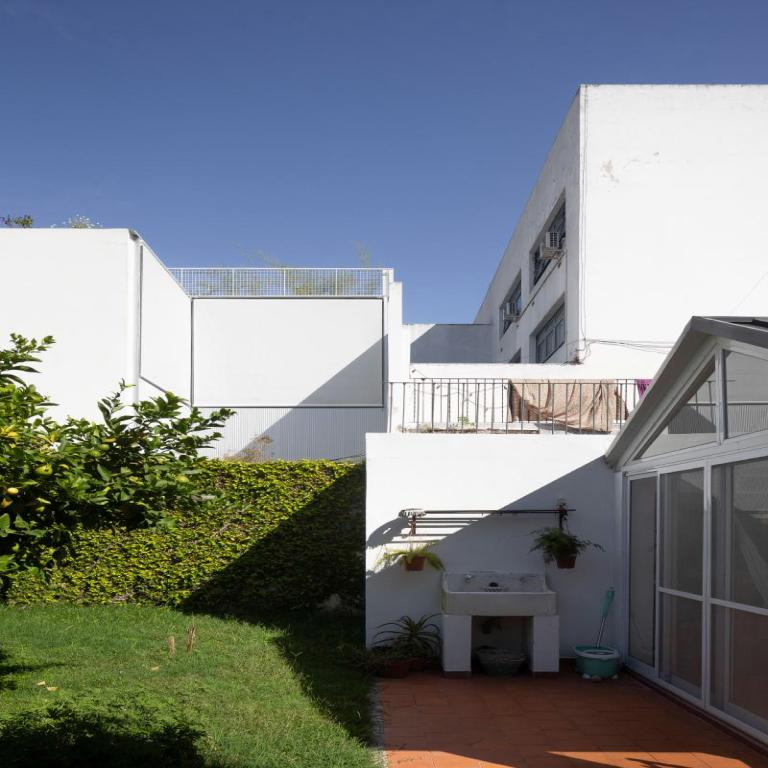white-walls: (597, 108, 749, 326)
